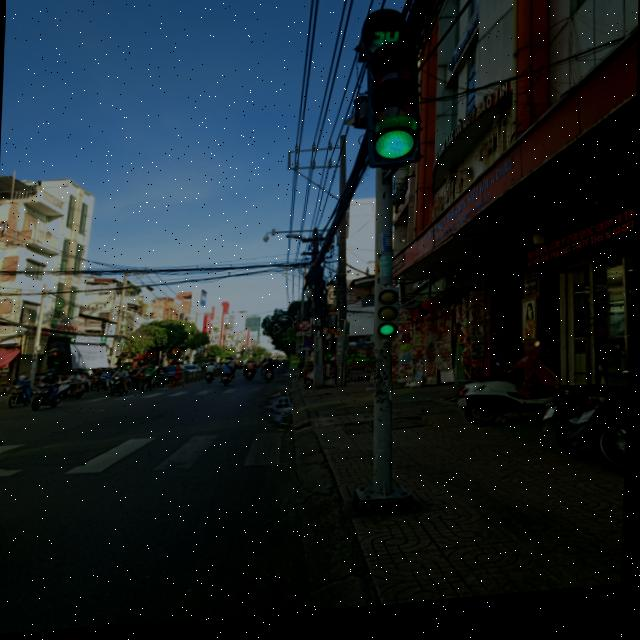Green: (355, 50, 441, 175), (368, 285, 401, 347)
